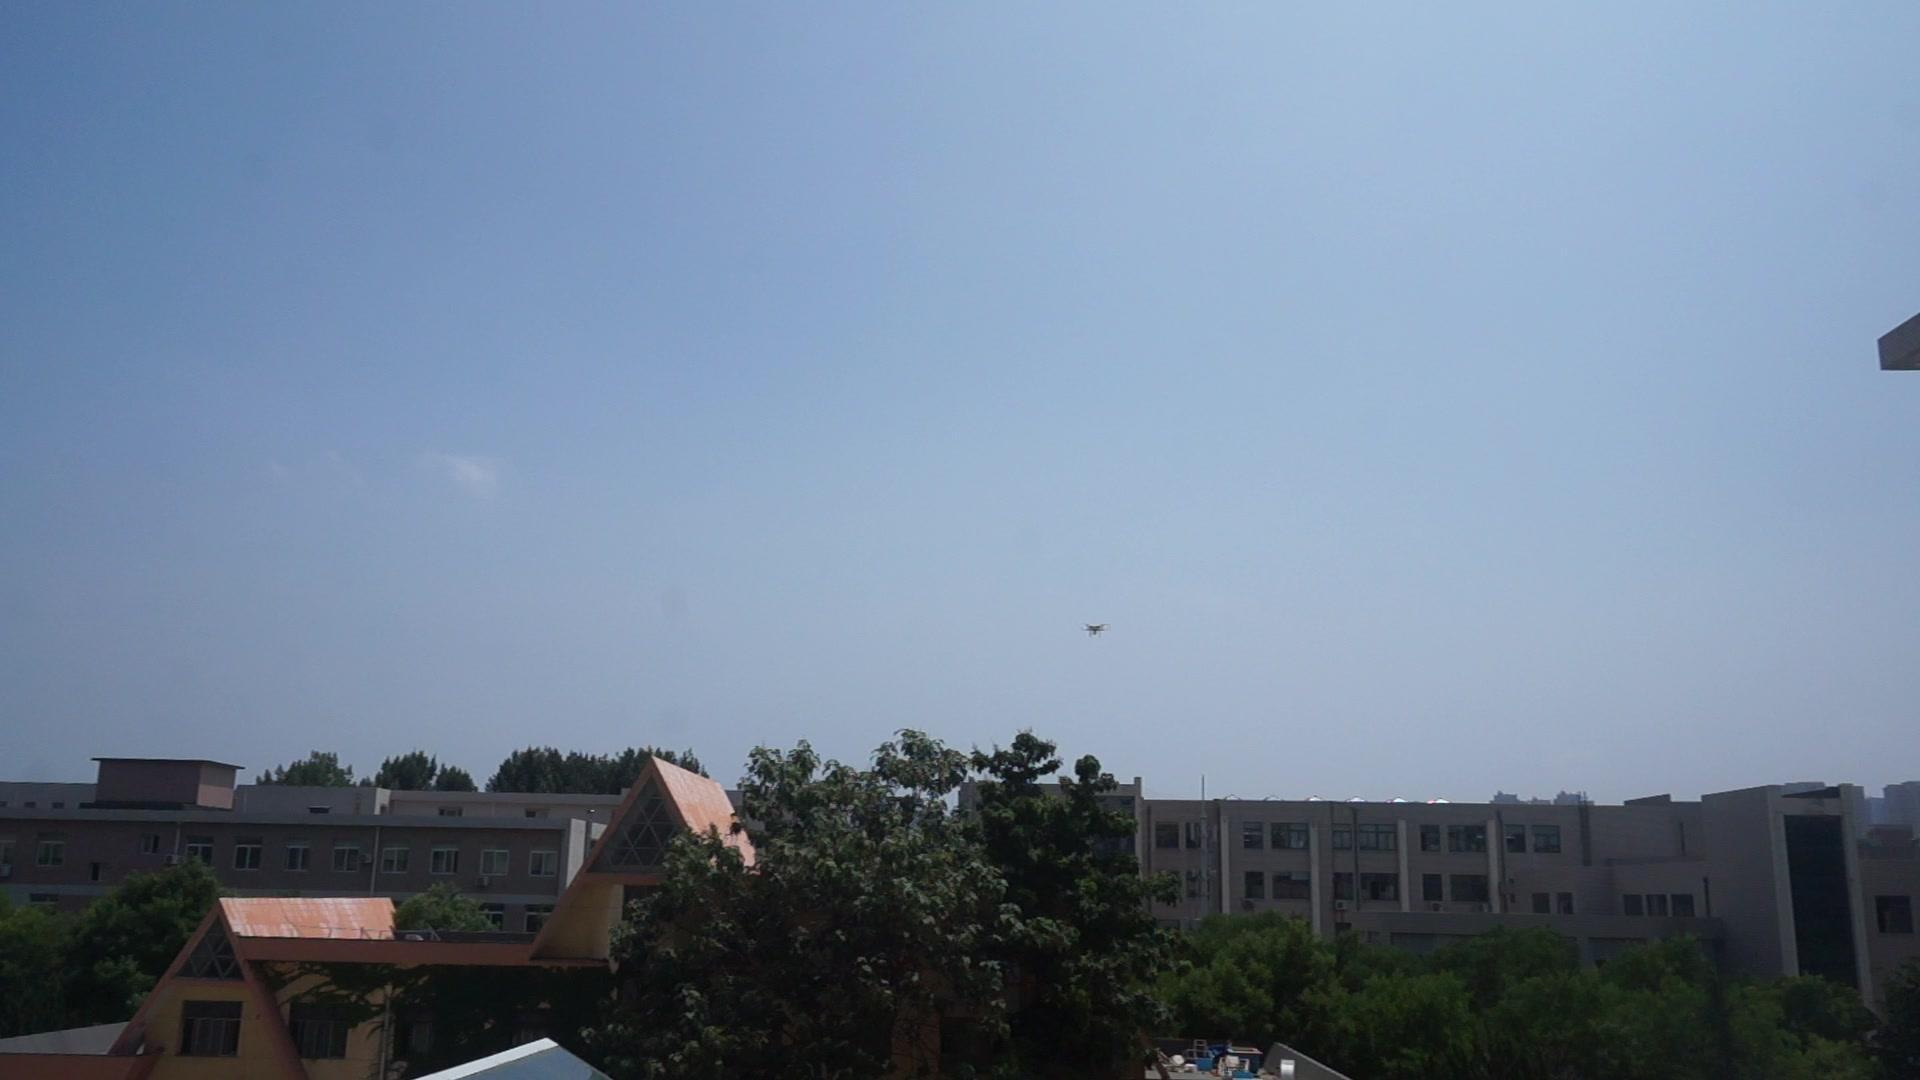UAV: (1083, 625, 1112, 638)
